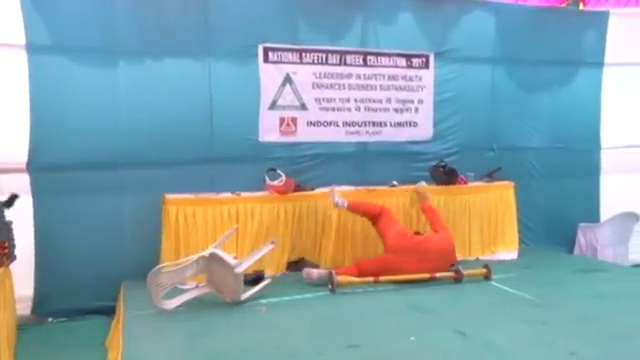person: (301, 191, 461, 289)
